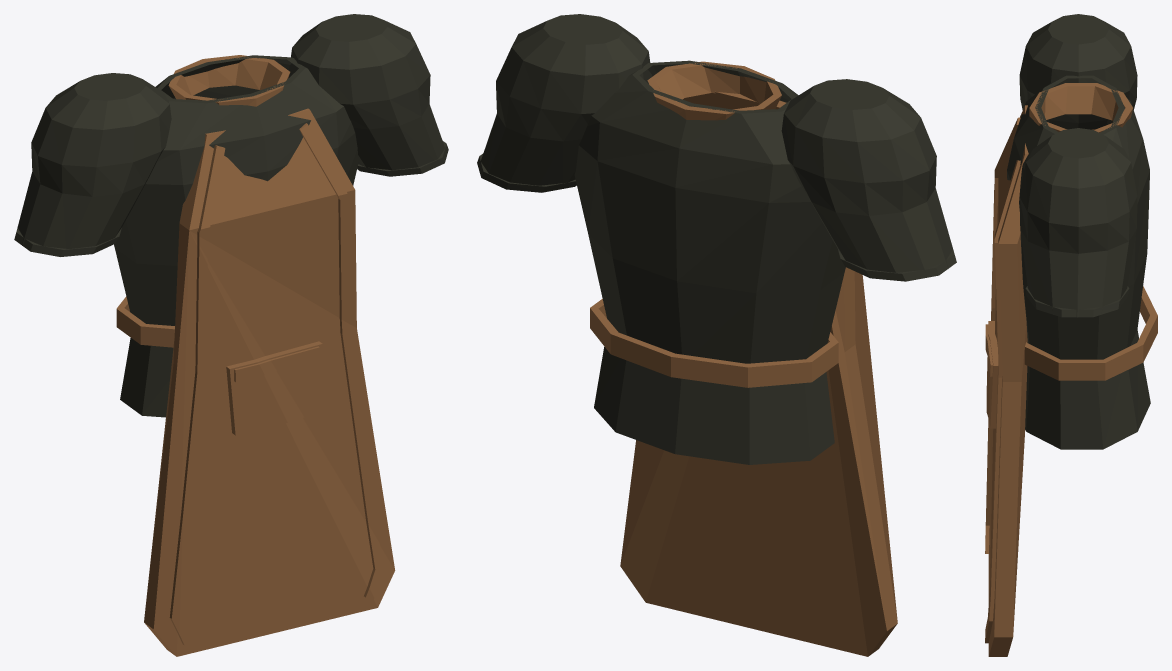
File: leather_apron-male.glb
3 renders of one model, left to right at view 1: azimuth 30°, elevation 25°; view 2: azimuth 150°, elevation 25°; view 3: azimuth 270°, elevation 25°, orthographic. The views are drawn at different scales.
Parts seen in each view (by area): view 1: Leather apron bib and skirt, Apron cloth undershirt, workshirt upper sleeve -1, workshirt upper sleeve 1, Apron stitched border -1, Apron working pocket, Apron stitched border 1, Apron continuous neck loop, Apron waist tie, Pocket turned lip, Sleeve cuff binding -1, Sleeve cuff binding 1; view 2: Apron cloth undershirt, Leather apron bib and skirt, workshirt upper sleeve -1, workshirt upper sleeve 1, Apron waist tie, Apron continuous neck loop, Sleeve cuff binding -1, Sleeve cuff binding 1; view 3: Apron cloth undershirt, workshirt upper sleeve 1, Leather apron bib and skirt, workshirt upper sleeve -1, Apron waist tie, Apron continuous neck loop, Apron stitched border 1, Apron stitched border -1, Apron working pocket, Sleeve cuff binding 1.
Part boxes in pixels (x1,y1,x2,y2): Leather apron bib and skirt: [144, 108, 395, 656]; Apron cloth undershirt: [114, 55, 358, 417]; workshirt upper sleeve -1: [17, 73, 171, 251]; workshirt upper sleeve 1: [288, 14, 445, 170]; Apron stitched border -1: [169, 145, 225, 645]; Apron working pocket: [226, 341, 322, 435]; Apron stitched border 1: [299, 123, 383, 599]; Apron continuous neck loop: [168, 55, 290, 106]; Apron waist tie: [116, 296, 174, 347]; Pocket turned lip: [234, 346, 319, 382]; Sleeve cuff binding -1: [14, 228, 121, 256]; Sleeve cuff binding 1: [357, 141, 448, 176]; Apron cloth undershirt: [574, 60, 845, 464]; Leather apron bib and skirt: [620, 91, 897, 656]; workshirt upper sleeve -1: [781, 79, 952, 274]; workshirt upper sleeve 1: [480, 14, 651, 186]; Apron waist tie: [590, 299, 838, 387]; Apron continuous neck loop: [647, 61, 781, 120]; Sleeve cuff binding -1: [838, 249, 956, 281]; Sleeve cuff binding 1: [477, 153, 576, 192]; Apron cloth undershirt: [1007, 75, 1150, 449]; workshirt upper sleeve 1: [1019, 128, 1137, 317]; Leather apron bib and skirt: [988, 105, 1028, 656]; workshirt upper sleeve -1: [1019, 14, 1137, 129]; Apron waist tie: [1024, 286, 1157, 380]; Apron continuous neck loop: [1029, 83, 1133, 132]; Apron stitched border 1: [985, 160, 1020, 643]; Apron stitched border -1: [985, 117, 1020, 553]; Apron working pocket: [986, 321, 998, 428]; Sleeve cuff binding 1: [1025, 286, 1129, 317].
Bounding box in the file's own units: 3.33 × 4.11 × 1.23.
